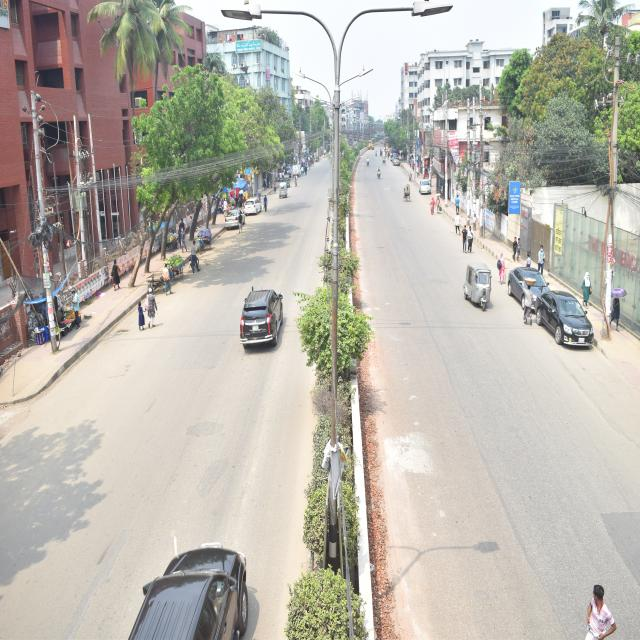car: (119, 540, 253, 638), (536, 287, 598, 355), (240, 285, 287, 354), (508, 262, 553, 308), (218, 207, 247, 234), (240, 195, 262, 218), (418, 175, 435, 197)
